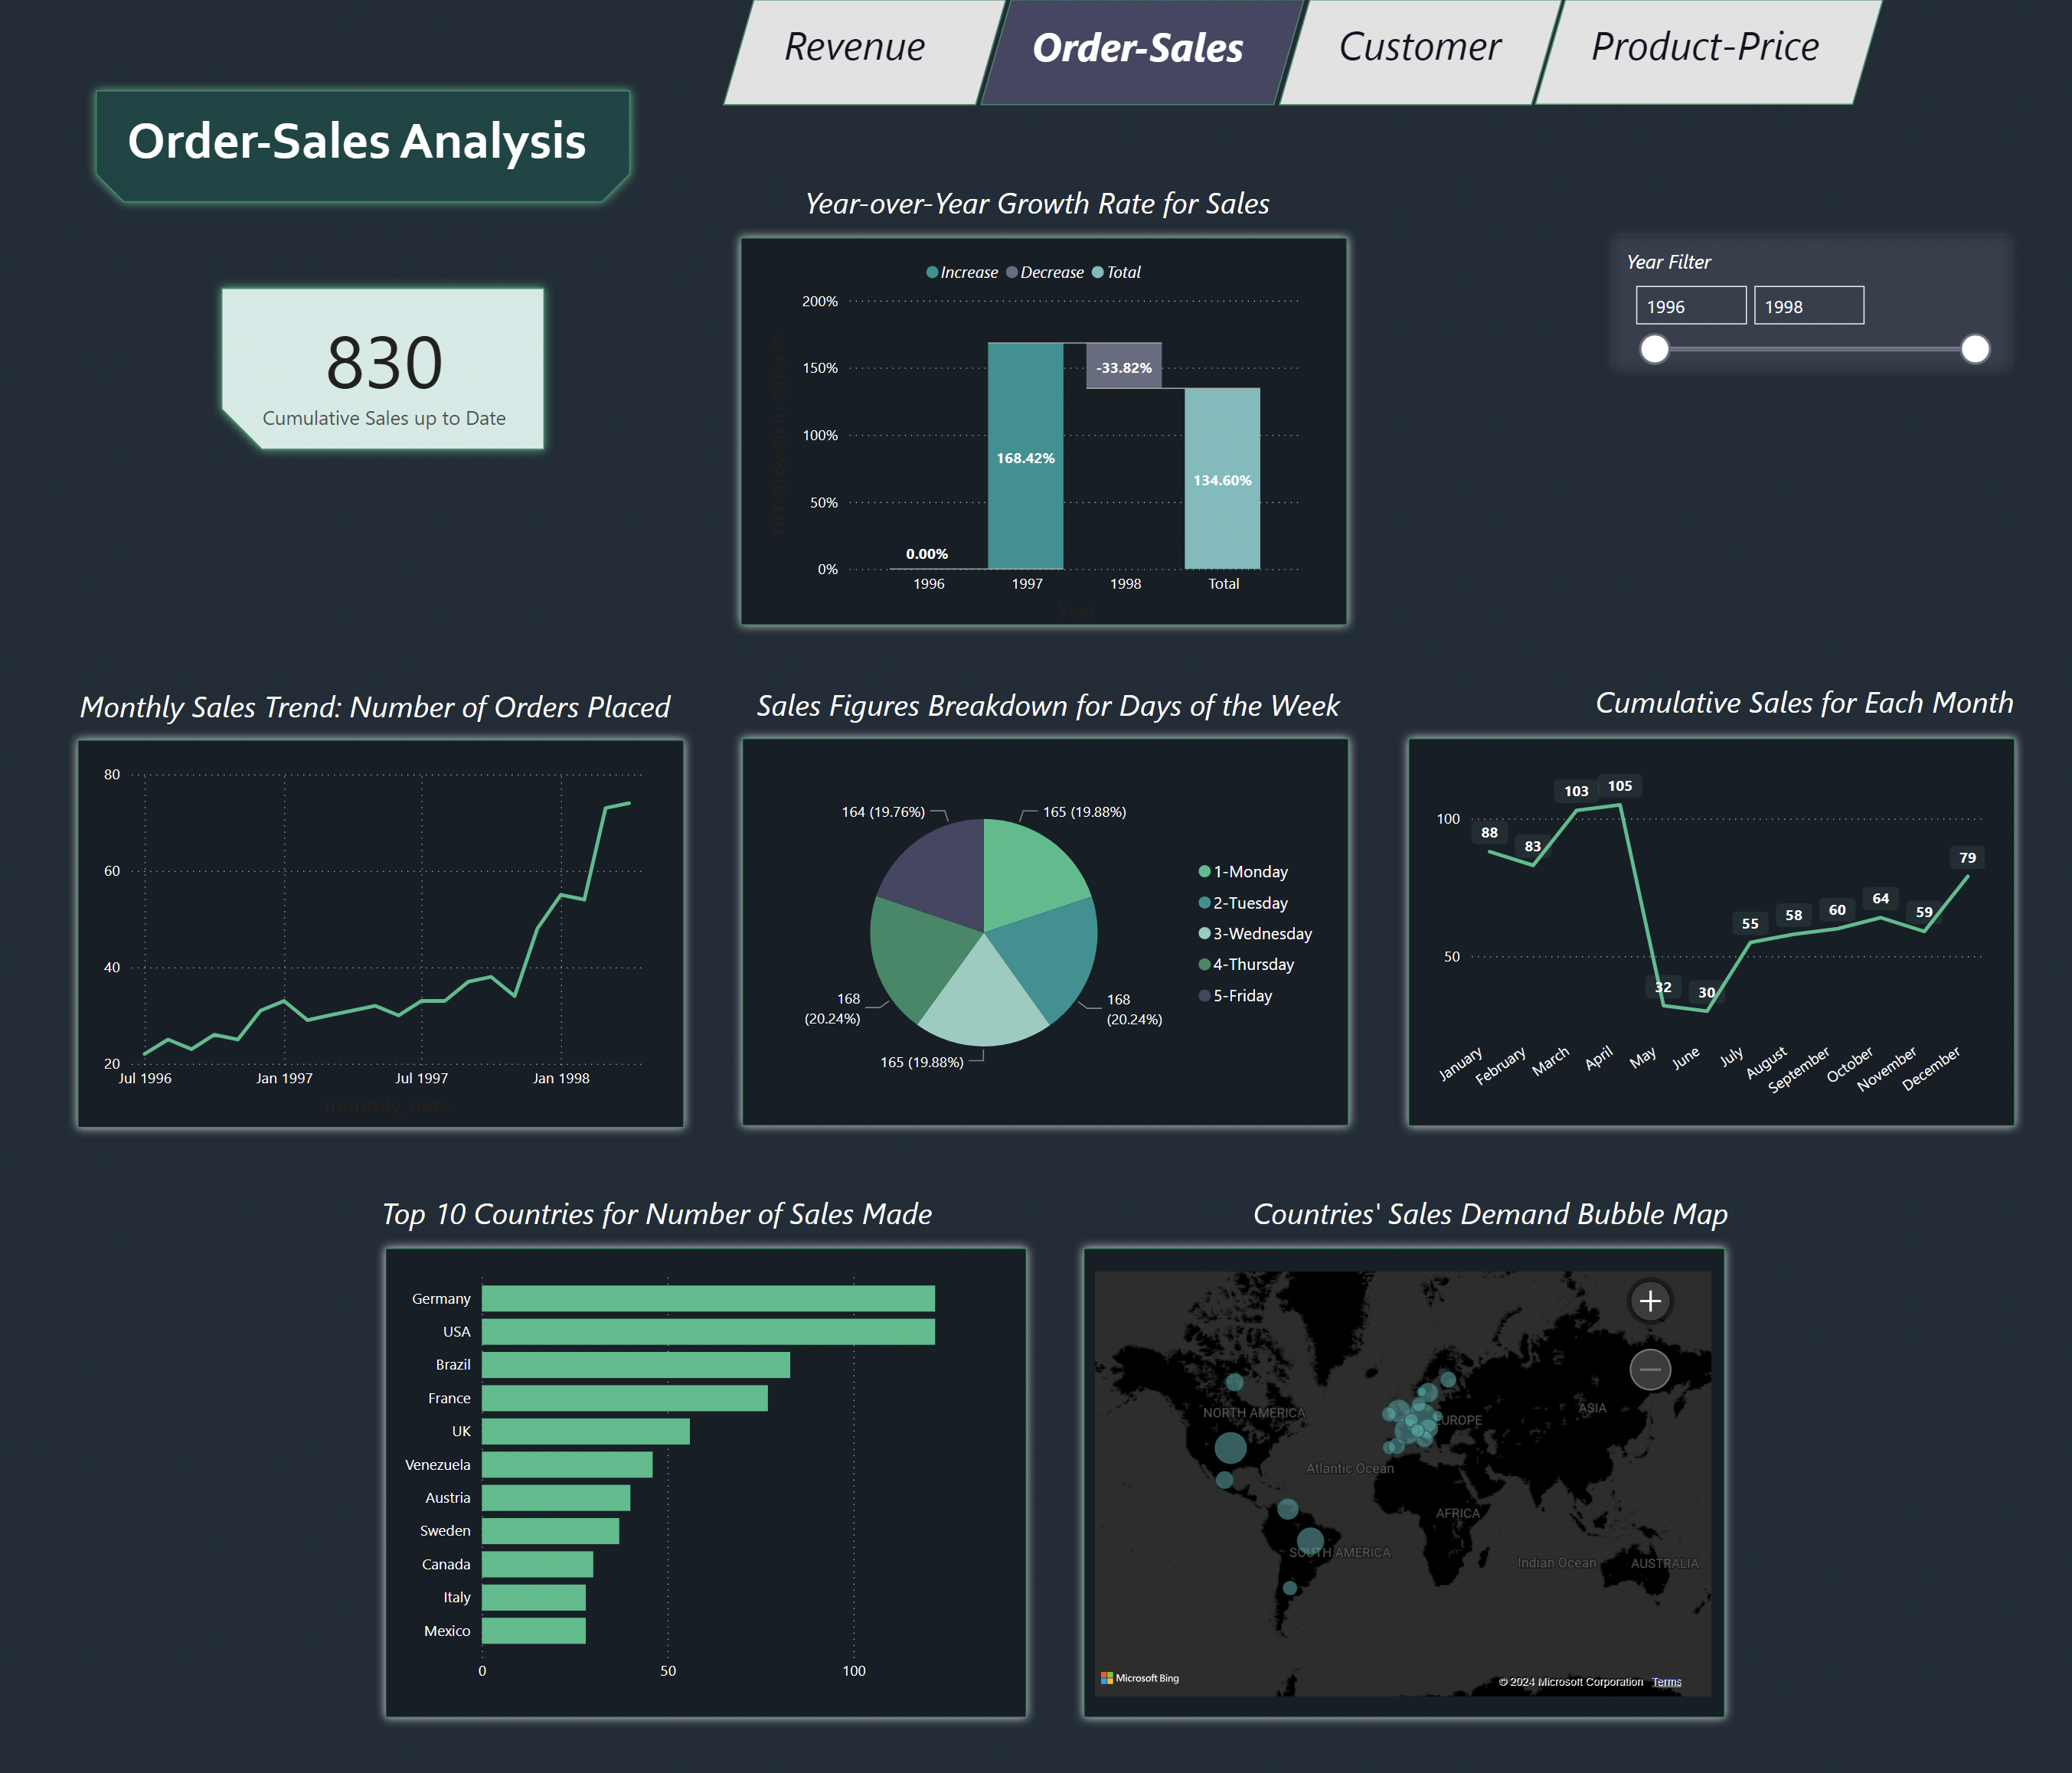

What the dashboard file says about the page in this screenshot:
{"tool":"powerbi","page":{"name":"2) Order-Sales Analysis","canvas":[1700,1450],"ordinal":1},"visuals":[{"type":"shape","box":[882,1011.7,540,400],"z":0},{"type":"shape","box":[312.1,1011.7,540,400],"z":1000},{"type":"shape","box":[1147.2,595,511.7,333.3],"z":2000},{"type":"shape","box":[603.3,595,511.7,333],"z":3000},{"type":"shape","box":[61.7,596.7,511.7,333.3],"z":4000},{"type":"shape","box":[178.5,227.8,280,148.3],"z":5000},{"type":"shape","box":[602.7,186,511.7,333],"z":6000},{"type":"card","fields":{"Values":["DAX Measures.Cumulative Sum"]},"box":[201.9,237.8,235,130],"z":7000},{"type":"lineChart","fields":{"Category":["Monthly Sales Data.monthly_date"],"Y":["DAX Measures.Sales YTD"]},"box":[86.2,618.8,462.5,298.8],"z":8000},{"type":"lineChart","fields":{"Y":["DAX Measures.Total Sales"],"Category":["Calendar.Date.Variation.Date Hierarchy.Month"]},"box":[1160.2,610,471.7,306.7],"z":9000},{"type":"waterfallChart","fields":{"Y":["DAX Measures.YoY %"],"Category":["Calendar.Year"]},"box":[628.8,202.5,446,311],"z":10000},{"type":"map","fields":{"Category":["Country Sales Data.ship_country"],"Size":["Sum(Country Sales Data.count)"]},"box":[895.3,1033.3,513.3,356.7],"z":11000},{"type":"pieChart","fields":{"Category":["Query1.day_of_the_week"],"Y":["Sum(Sales DoW Data.total_sales)"]},"box":[630,628.3,461.7,266.7],"z":12000},{"type":"clusteredBarChart","fields":{"Category":["Sales Country Data.ship_country"],"Y":["Sum(Sales Country Data.count)"]},"box":[327.1,1026.7,511.7,356.7],"z":13000},{"type":"shape","box":[76.7,65.7,452.5,107.6],"z":14000},{"type":"textbox","box":[104.8,83.4,398.3,71.7],"z":15000},{"type":"shape","box":[806.7,0,265,86.7],"z":16000},{"type":"textbox","box":[843.8,11.2,192.5,65],"z":17000},{"type":"shape","box":[1050,0,231.7,86.7],"z":18000},{"type":"textbox","box":[1093.3,10,155,65],"z":19000},{"type":"shape","box":[1258.8,0,285,86.2],"z":20000},{"type":"textbox","box":[1300,10,210,65],"z":21000},{"type":"shape","box":[596.7,0,231.7,86.7],"z":22000},{"type":"textbox","box":[641.7,10,145,63.3],"z":23000},{"type":"textbox","box":[621.7,143.3,463.3,45],"z":24000},{"type":"textbox","box":[66.7,555,506.7,43.3],"z":25000},{"type":"textbox","box":[608.3,553.3,506.7,43.3],"z":26000},{"type":"textbox","box":[1148.5,551.7,506.7,43.3],"z":27000},{"type":"textbox","box":[312.1,968.3,540,43.3],"z":28000},{"type":"textbox","box":[888.7,968.3,533.3,43.3],"z":29000},{"type":"shape","box":[1315,184.4,340,125],"z":30000},{"type":"slicer","title":"Year Filter","fields":{"Values":["Calendar.Year"]},"box":[1328.8,201.9,311.2,107.5],"z":31000}]}

Visuals, with their boxes in screenshot pixels (x1, y1, x2, y2), scaled from the page's 1700x1450 canvas onto the 2072x1773 screenshot:
shape: [x1=1075, y1=1237, x2=1733, y2=1726]
shape: [x1=381, y1=1237, x2=1038, y2=1726]
shape: [x1=1398, y1=727, x2=2022, y2=1135]
shape: [x1=735, y1=727, x2=1359, y2=1135]
shape: [x1=75, y1=730, x2=699, y2=1137]
shape: [x1=217, y1=279, x2=559, y2=460]
shape: [x1=734, y1=227, x2=1358, y2=635]
card - DAX Measures.Cumulative Sum: [x1=246, y1=291, x2=532, y2=449]
lineChart - Monthly Sales Data.monthly_date x DAX Measures.Sales YTD: [x1=105, y1=756, x2=668, y2=1122]
lineChart - DAX Measures.Total Sales x Calendar.Date.Variation.Date Hierarchy.Month: [x1=1414, y1=746, x2=1989, y2=1121]
waterfallChart - DAX Measures.YoY % x Calendar.Year: [x1=766, y1=247, x2=1310, y2=628]
map - Country Sales Data.ship_country x Sum(Country Sales Data.count): [x1=1091, y1=1263, x2=1717, y2=1700]
pieChart - Query1.day_of_the_week x Sum(Sales DoW Data.total_sales): [x1=768, y1=769, x2=1331, y2=1095]
clusteredBarChart - Sales Country Data.ship_country x Sum(Sales Country Data.count): [x1=399, y1=1255, x2=1022, y2=1692]
shape: [x1=93, y1=80, x2=645, y2=212]
textbox: [x1=128, y1=102, x2=613, y2=190]
shape: [x1=983, y1=0, x2=1306, y2=106]
textbox: [x1=1028, y1=14, x2=1263, y2=93]
shape: [x1=1279, y1=0, x2=1562, y2=106]
textbox: [x1=1332, y1=12, x2=1521, y2=92]
shape: [x1=1534, y1=0, x2=1881, y2=106]
textbox: [x1=1584, y1=12, x2=1841, y2=92]
shape: [x1=727, y1=0, x2=1010, y2=106]
textbox: [x1=782, y1=12, x2=959, y2=90]
textbox: [x1=758, y1=175, x2=1322, y2=230]
textbox: [x1=81, y1=678, x2=699, y2=732]
textbox: [x1=741, y1=677, x2=1359, y2=730]
textbox: [x1=1400, y1=674, x2=2018, y2=727]
textbox: [x1=381, y1=1184, x2=1038, y2=1237]
textbox: [x1=1083, y1=1184, x2=1733, y2=1237]
shape: [x1=1603, y1=226, x2=2017, y2=378]
"Year Filter" slicer: [x1=1619, y1=247, x2=1998, y2=378]
